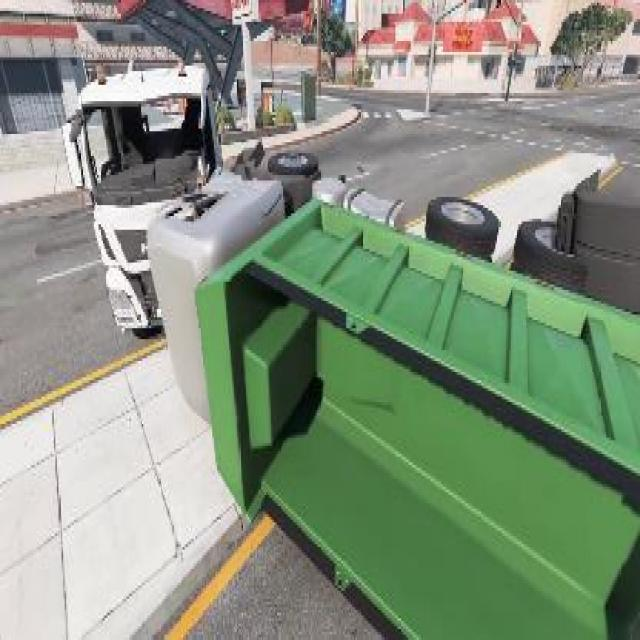accident: (56, 0, 638, 637)
